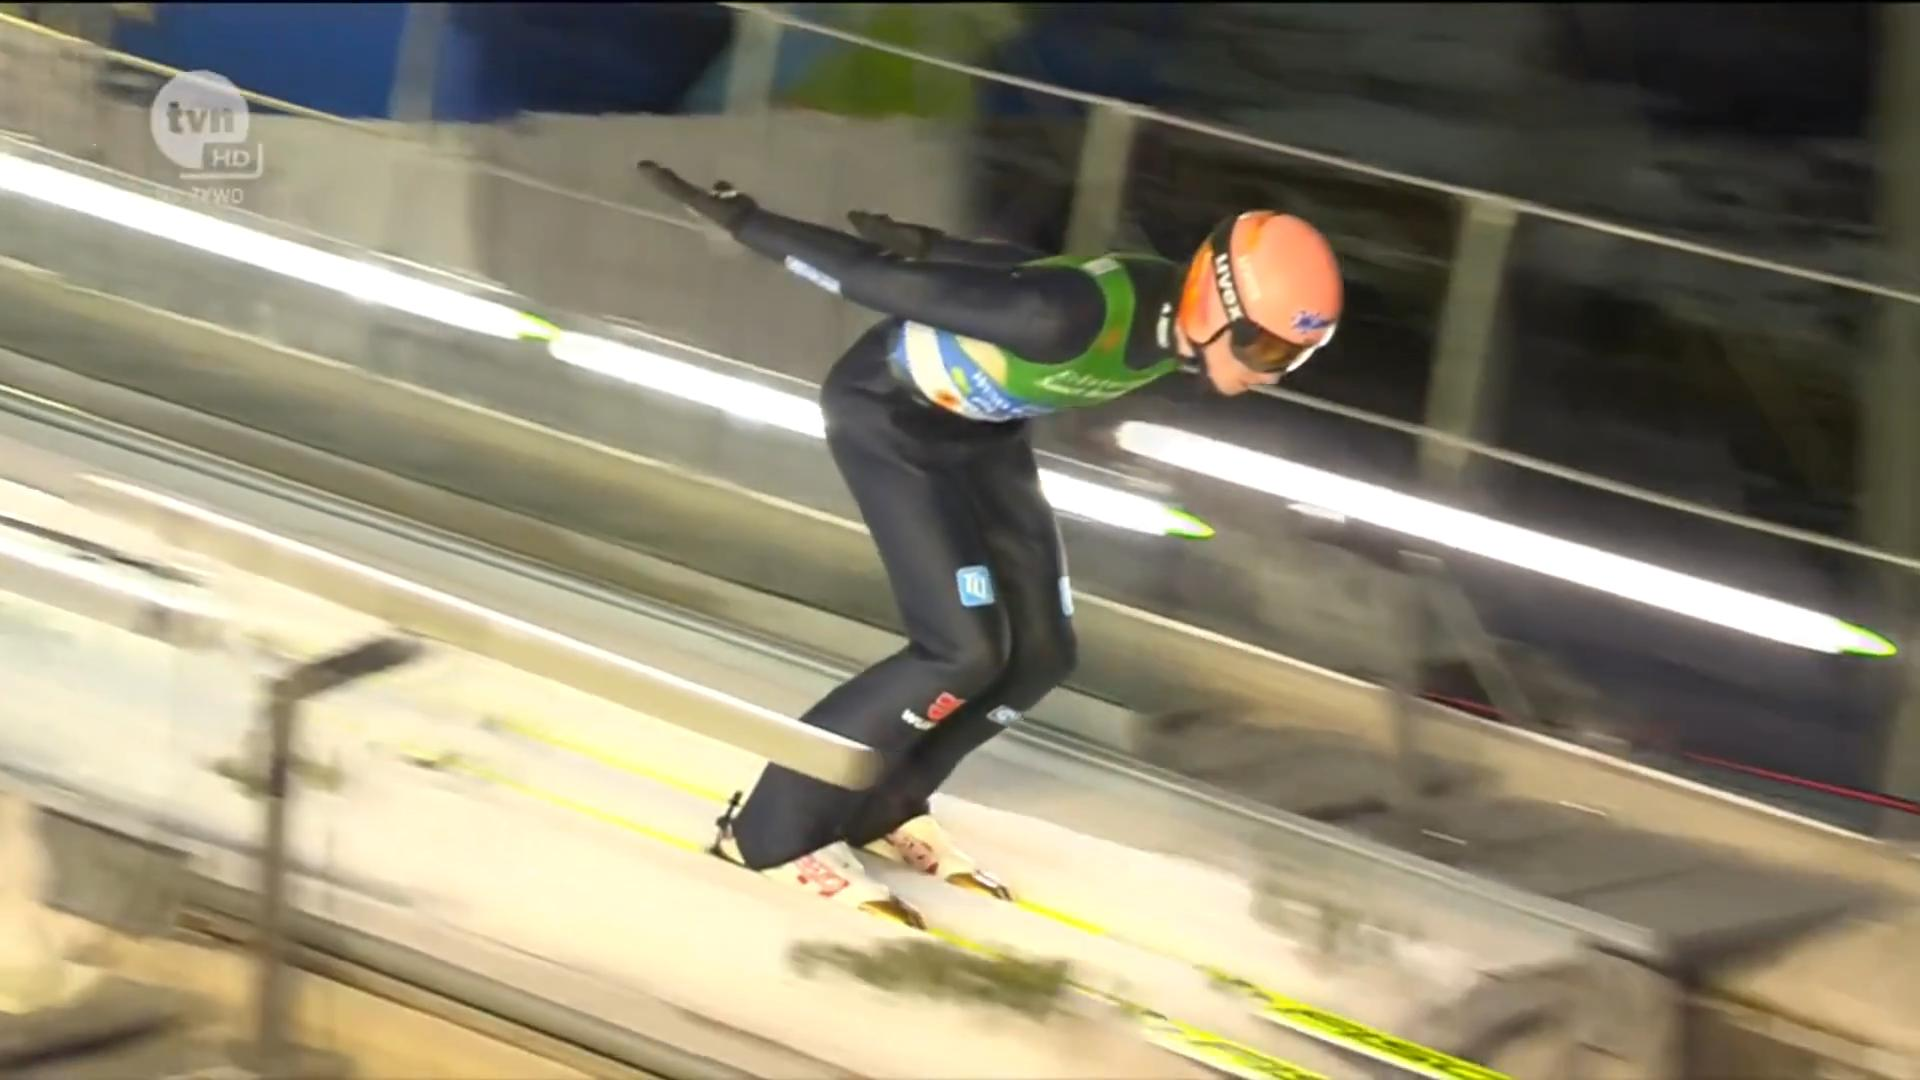prog: (1510, 893, 1882, 1011)
